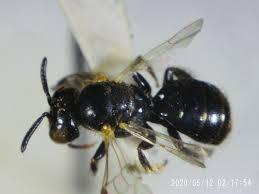Braunsapis: (11, 12, 237, 183)
